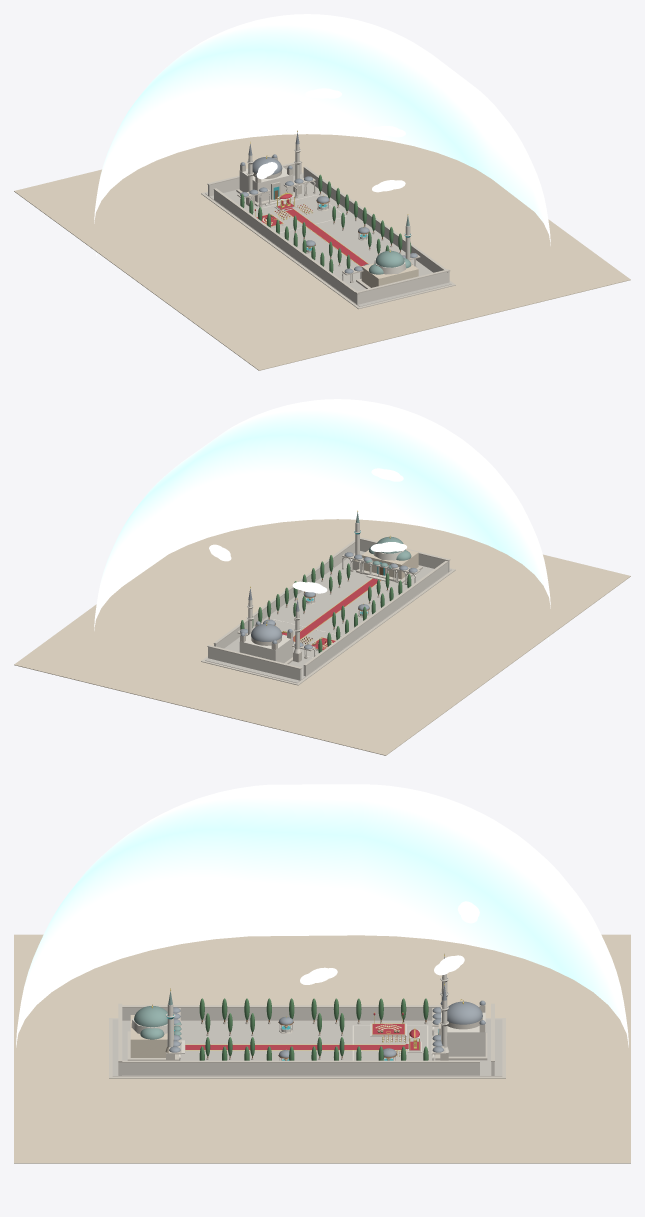
Rendered from osmanli_dugun_meydani_v3.glb.
3 renders of one model, top to bottom at view 1: azimuth 30°, elevation 25°; view 2: azimuth 150°, elevation 25°; view 3: azimuth 270°, elevation 25°, orthographic. The views are drawn at different scales.
Visible parts, largest first — view 1: Courtyard_Floor, Sky_Dome_Enclosure, North_Imperial_Mosque, South_Octagonal_Mosque, Perimeter_Wall_South_Back, Wedding_Walkway_Carpet, Perimeter_Wall_North_Back; view 2: Courtyard_Floor, Sky_Dome_Enclosure, North_Imperial_Mosque, South_Octagonal_Mosque, Perimeter_Wall_North_Back, Wedding_Walkway_Carpet, Perimeter_Wall_South_Back; view 3: Courtyard_Floor, Sky_Dome_Enclosure, North_Imperial_Mosque, South_Octagonal_Mosque, Wedding_Walkway_Carpet, Perimeter_Wall_East_-4.0, Perimeter_Wall_East_-20.0, Perimeter_Wall_East_12.0, Perimeter_Wall_East_28.0, Perimeter_Wall_East_42.0, Perimeter_Wall_West_-4.0, Perimeter_Wall_East_54.0 (+4 smaller).
Boxes of the visible parts, left/top/right/bottom form: Courtyard_Floor: left=14, top=134, right=630, bottom=370; Sky_Dome_Enclosure: left=94, top=14, right=550, bottom=256; North_Imperial_Mosque: left=236, top=154, right=298, bottom=206; South_Octagonal_Mosque: left=356, top=249, right=418, bottom=288; Perimeter_Wall_South_Back: left=355, top=269, right=450, bottom=304; Wedding_Walkway_Carpet: left=285, top=209, right=368, bottom=266; Perimeter_Wall_North_Back: left=207, top=161, right=302, bottom=196; Courtyard_Floor: left=14, top=519, right=630, bottom=755; Sky_Dome_Enclosure: left=94, top=399, right=550, bottom=641; North_Imperial_Mosque: left=239, top=621, right=293, bottom=664; South_Octagonal_Mosque: left=356, top=535, right=422, bottom=583; Perimeter_Wall_North_Back: left=207, top=645, right=302, bottom=680; Wedding_Walkway_Carpet: left=293, top=578, right=380, bottom=641; Perimeter_Wall_South_Back: left=360, top=537, right=450, bottom=572; Courtyard_Floor: left=14, top=934, right=630, bottom=1163; Sky_Dome_Enclosure: left=16, top=784, right=628, bottom=1047; North_Imperial_Mosque: left=431, top=999, right=487, bottom=1060; South_Octagonal_Mosque: left=127, top=1004, right=184, bottom=1060; Wedding_Walkway_Carpet: left=185, top=1044, right=407, bottom=1050; Perimeter_Wall_East_-4.0: left=360, top=1060, right=420, bottom=1075; Perimeter_Wall_East_-20.0: left=420, top=1060, right=479, bottom=1075; Perimeter_Wall_East_12.0: left=301, top=1060, right=360, bottom=1075; Perimeter_Wall_East_28.0: left=241, top=1060, right=300, bottom=1075; Perimeter_Wall_East_42.0: left=189, top=1060, right=248, bottom=1075; Perimeter_Wall_West_-4.0: left=360, top=1005, right=420, bottom=1020; Perimeter_Wall_East_54.0: left=144, top=1060, right=203, bottom=1075.
Size of the model in its own units: 145 by 83.26 by 166.
